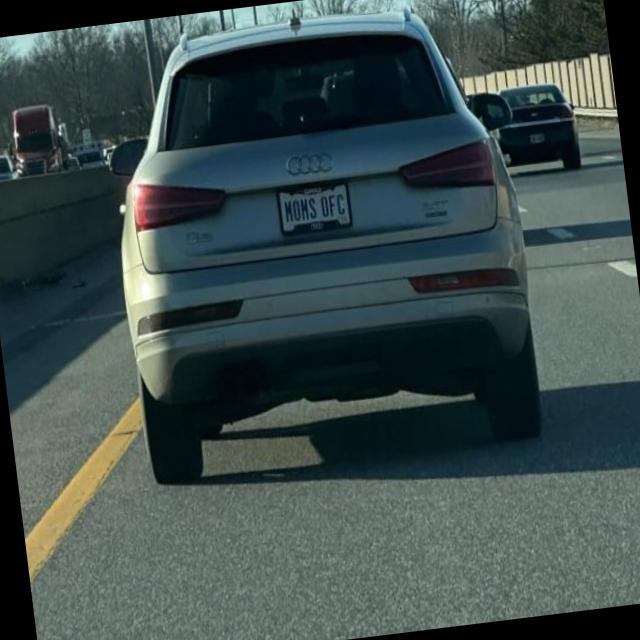LicensePlate: (275, 179, 354, 236)
